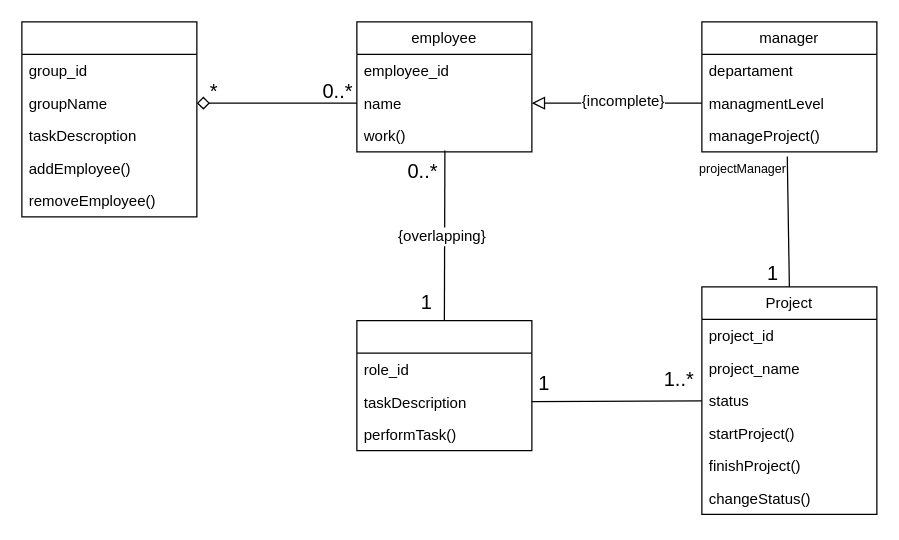
Some shapes in this 899 by 540 pixel diagram are drawn without their labels. The shapes that lost their labels are listed below. From the top down, each one's box as (x1, y1, x2, y2) in pixels, then its label:
(21, 21, 197, 217): WorkGroup
(356, 319, 532, 451): ProjectPerfomer<<role>>
